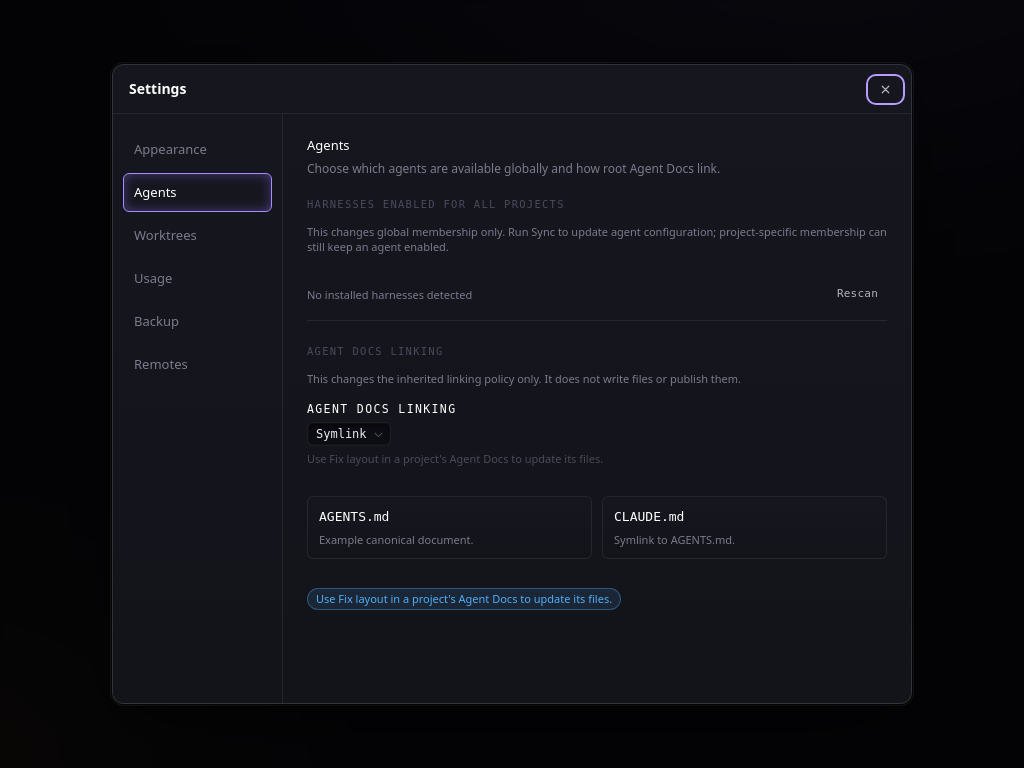
SettingsDialog › keeps a failed Agent Docs choice available for Retry
The image size is (1024, 768).
Click the dropdown named "Agent Docs linking" at point(349, 434), box [307,422,391,446]
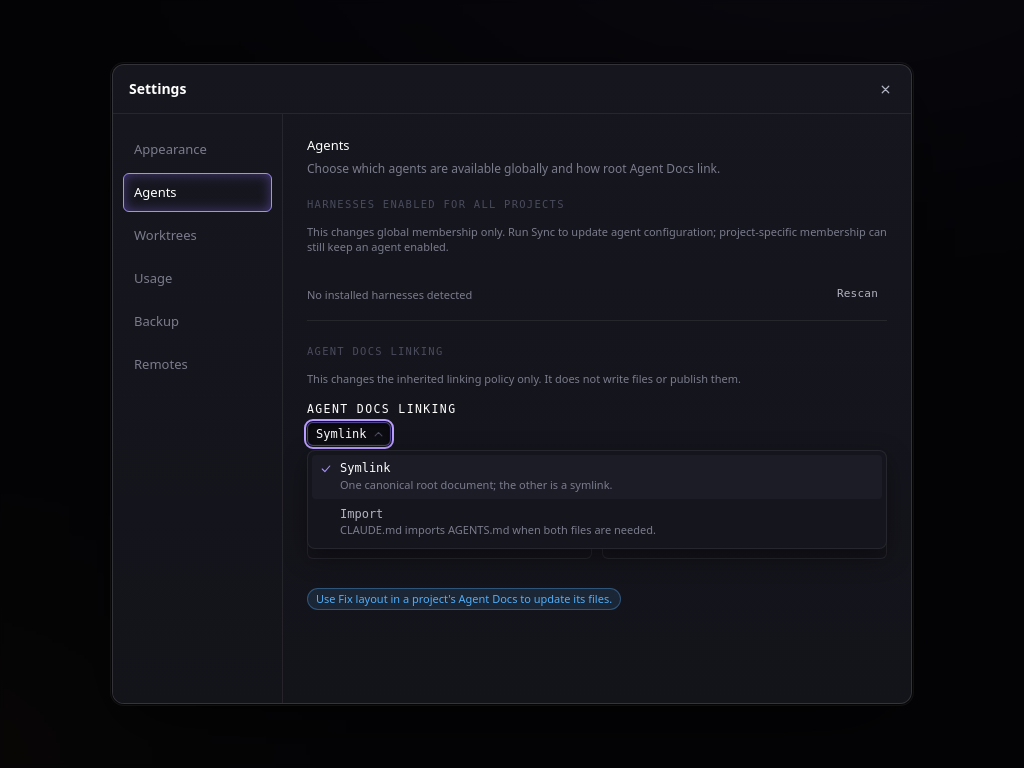
Click the option "Import" at point(498, 522), box [340,507,656,537]
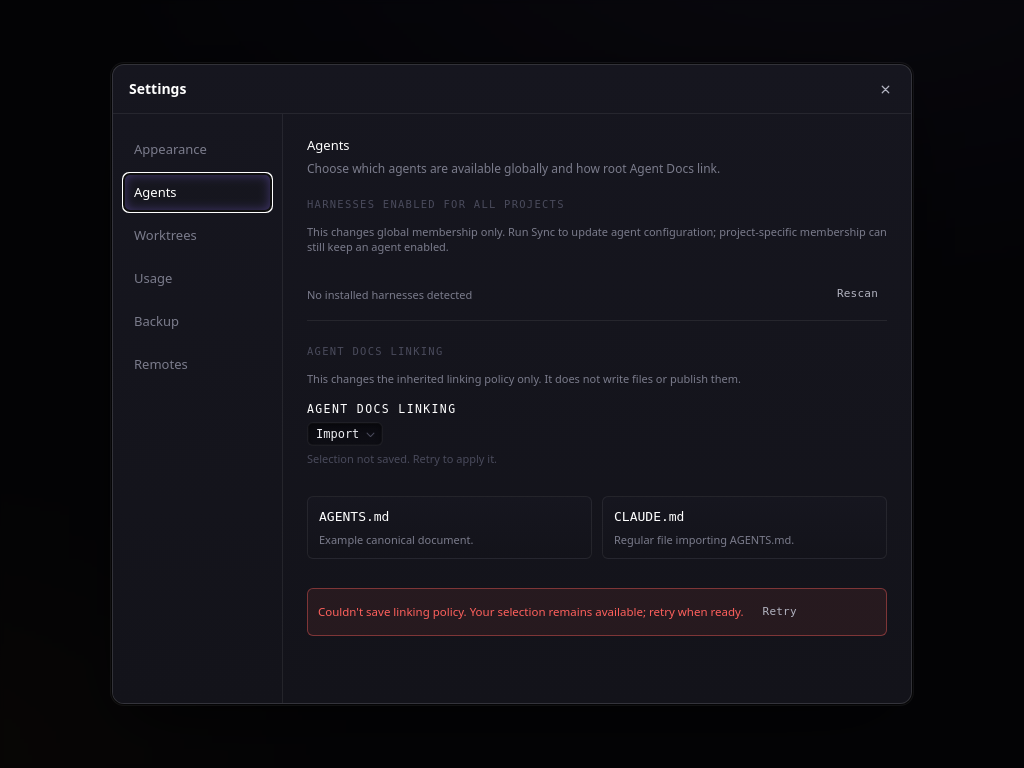
Expected: the text "Couldn't save linking policy" is shown, [318,604,744,619]
Expected: the text "Regular file importing AGENTS.md." is shown, [614,532,794,547]
Click the button "Appearance" at point(198, 150), box [123,130,272,169]
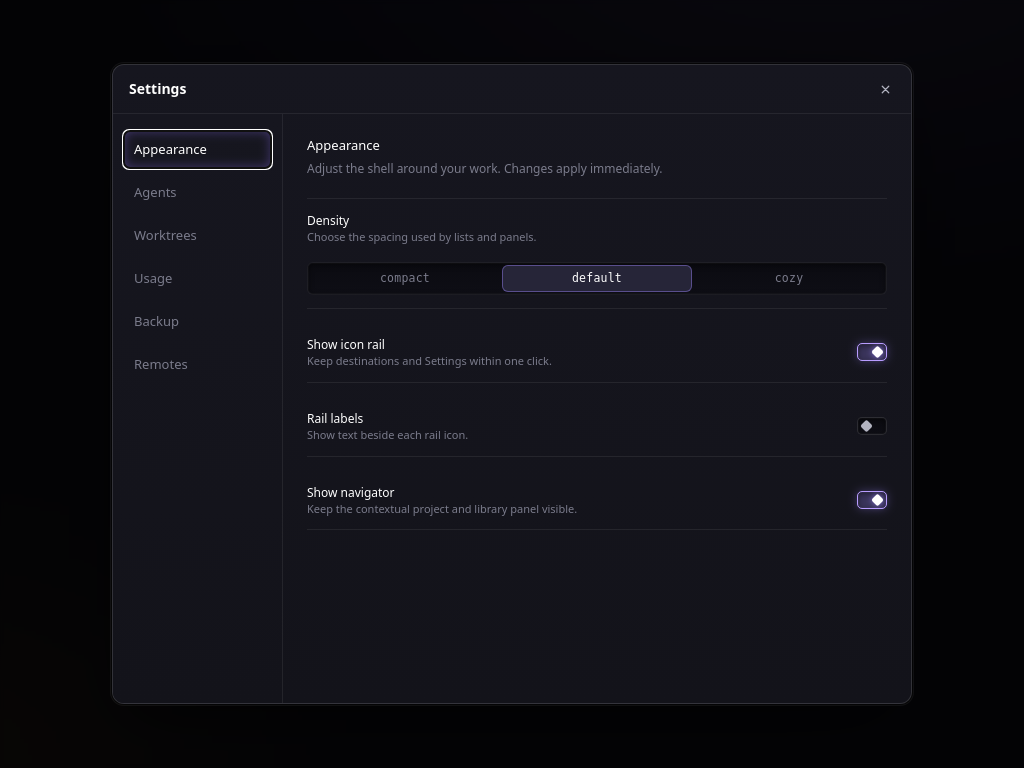
Click the button "Agents" at point(198, 192), box [123,173,272,212]
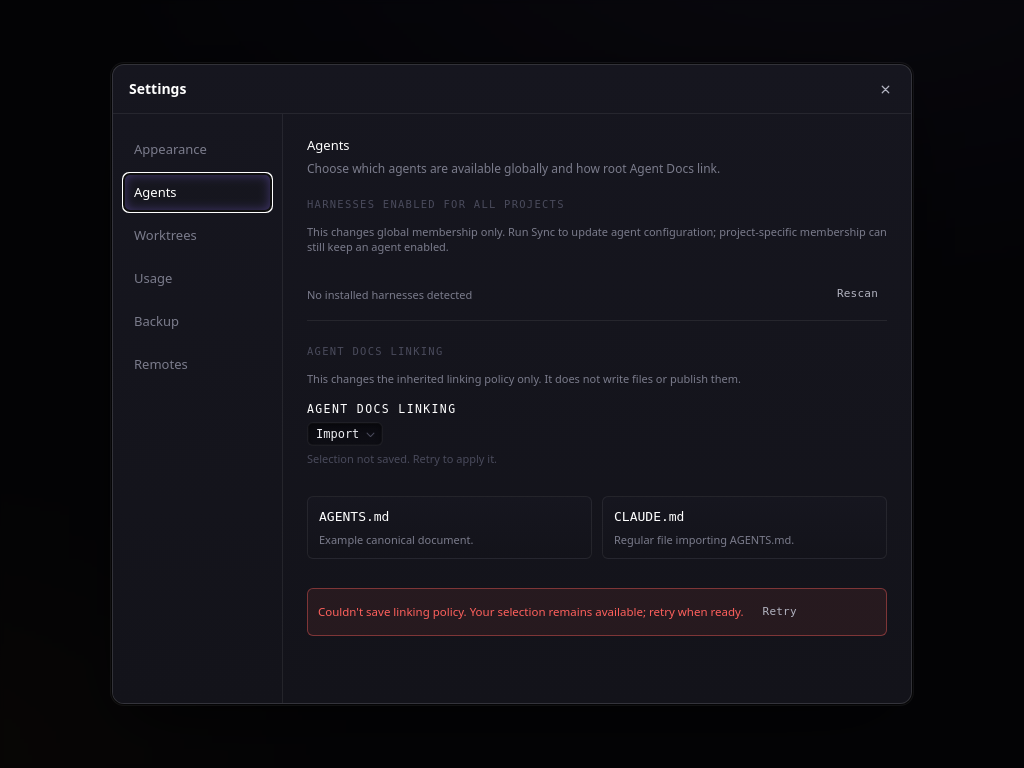
Expected: the message shows "Couldn't save linking policy", [318,604,744,619]
Expected: the dropdown named "Agent Docs linking" reads "Import", [307,422,383,446]
Click the button "Retry" at point(780, 612), box [754,600,806,625]
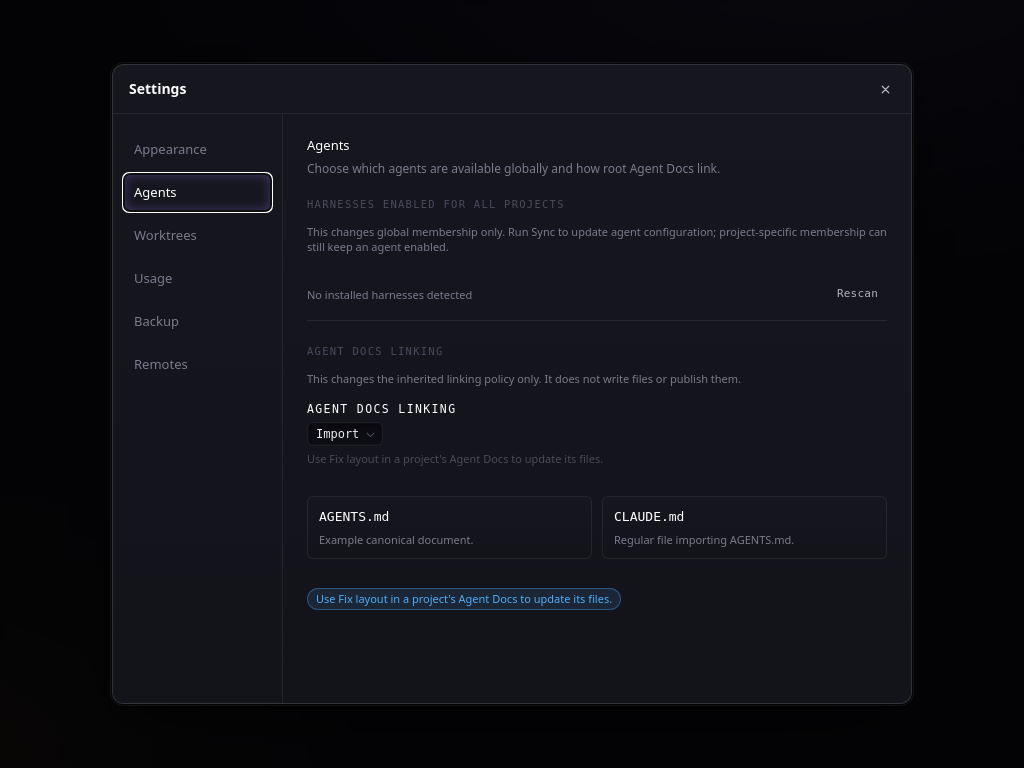
Expected: the 1st text "Use Fix layout" is shown, [307,451,603,466]
